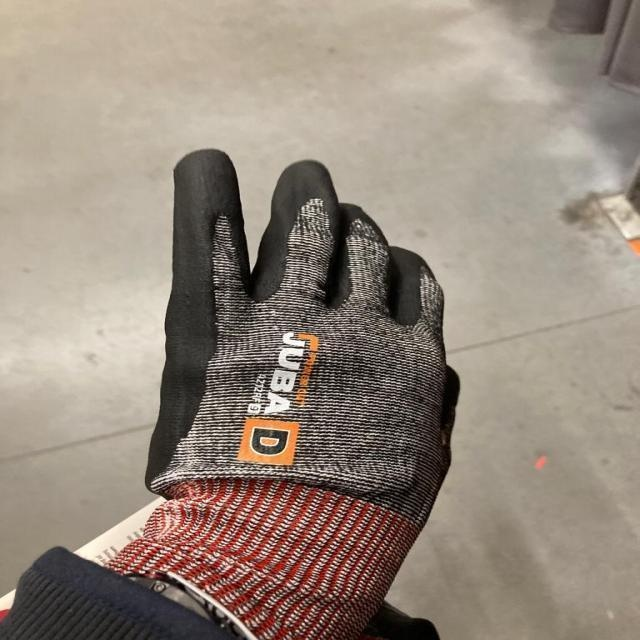Guantes: (118, 127, 491, 640)
